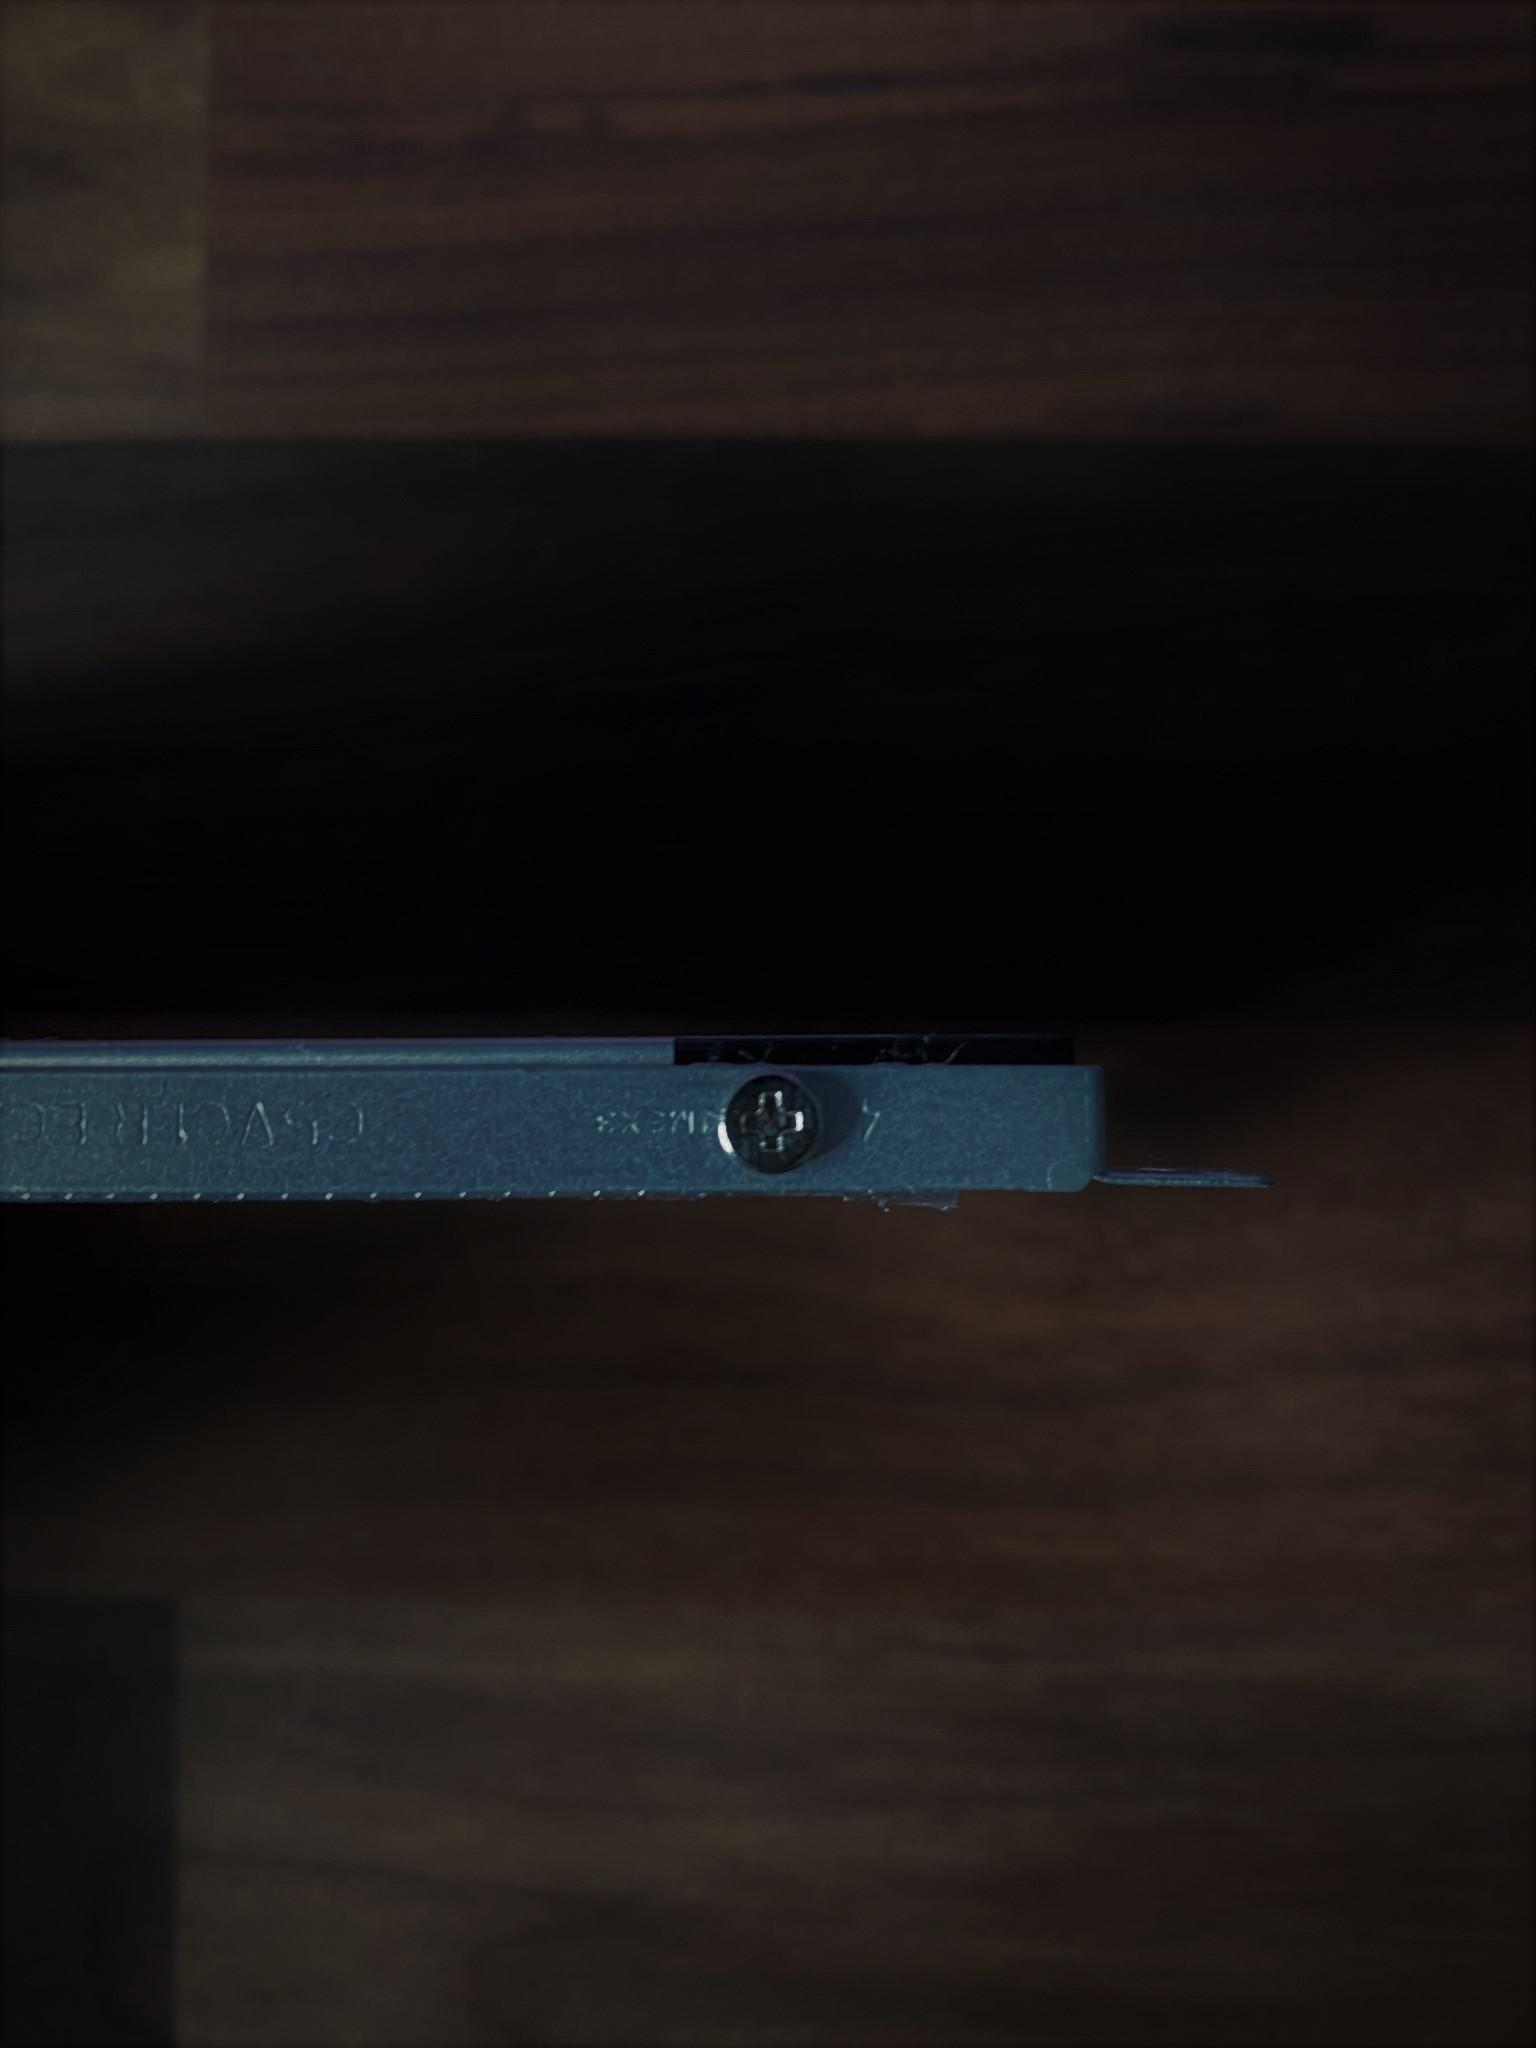PH: (718, 1068, 821, 1176)
